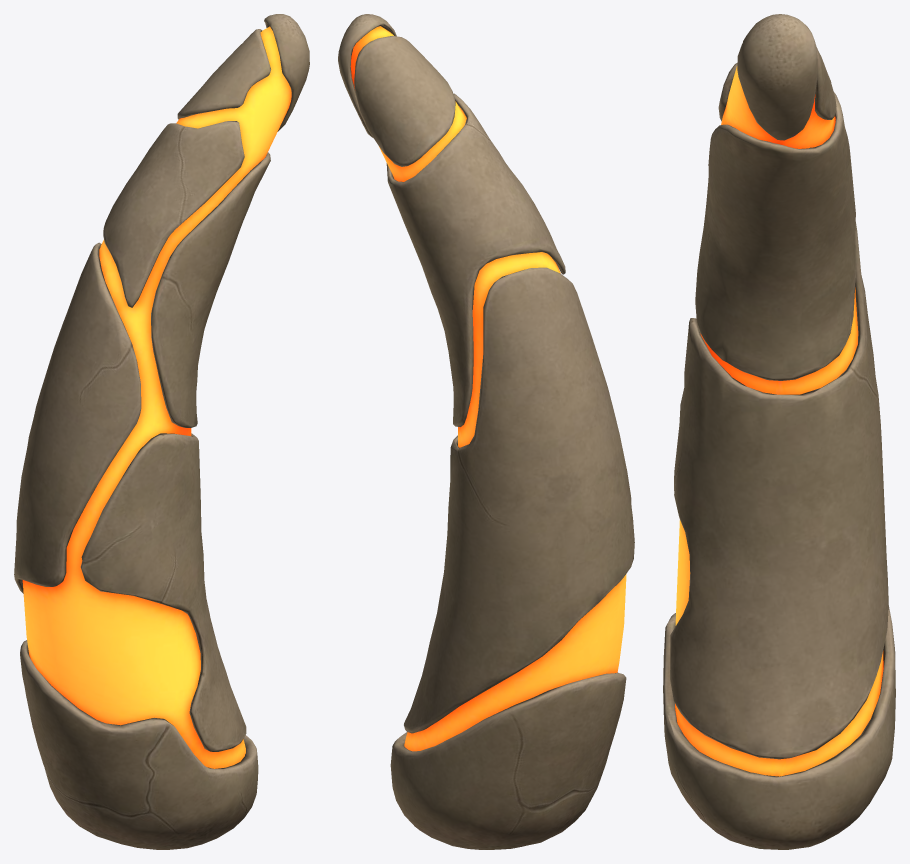
The model's file is tb_bone_01d.glb.
3 renders of one model, left to right at view 1: azimuth 30°, elevation 25°; view 2: azimuth 150°, elevation 25°; view 3: azimuth 270°, elevation 25°, orthographic. The views are drawn at different scales.
Parts seen in each view (by area): view 1: tb_bone_01d; view 2: tb_bone_01d; view 3: tb_bone_01d.
Part boxes in pixels (x1,y1,x2,y2): tb_bone_01d: [14, 14, 309, 849]; tb_bone_01d: [338, 14, 634, 849]; tb_bone_01d: [663, 14, 895, 849].
Size of the model in its own units: 3.53 by 9.65 by 2.32.
1 material, 1 textured.
